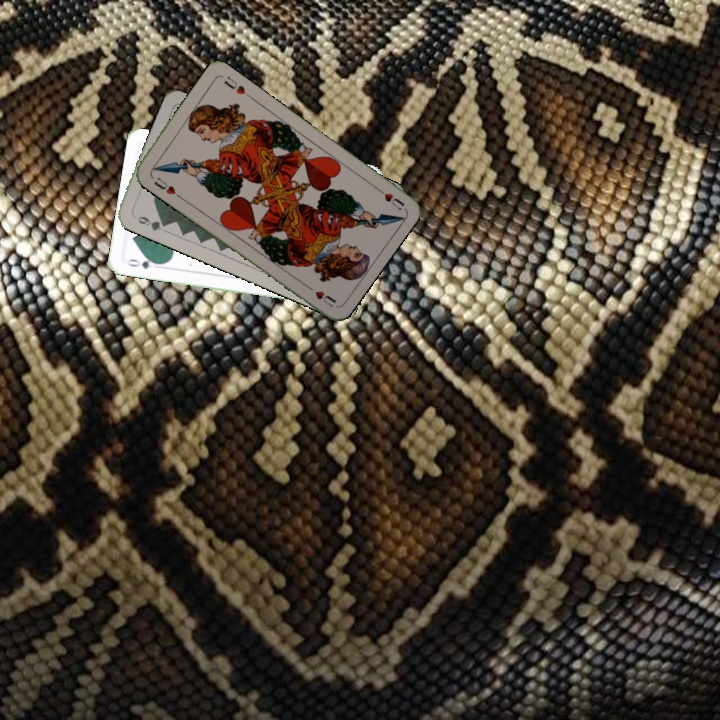G9: (129, 211, 170, 234)
GO: (124, 254, 163, 272)
HU: (371, 182, 407, 212), (150, 173, 182, 200)
